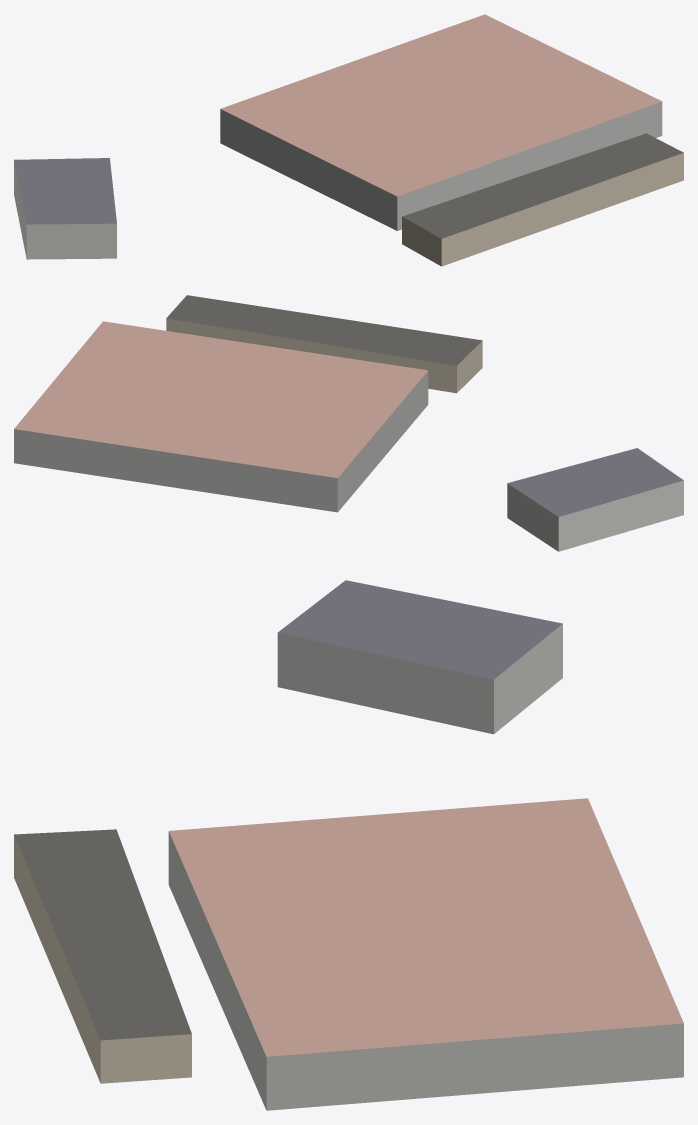
3 views of the same model, one above another, from view 1: azimuth 30°, elevation 25°; view 2: azimuth 150°, elevation 25°; view 3: azimuth 270°, elevation 25° (orthographic). The views are drawn at different scales.
Parts seen in each view (by area): view 1: tuile; view 2: tuile; view 3: tuile.
Part boxes in pixels (x1,y1,x2,y2): tuile: (14, 14, 683, 266); tuile: (14, 295, 683, 551); tuile: (14, 580, 683, 1110).
Size of the model in its own units: 118 by 7.72 by 71.91.
